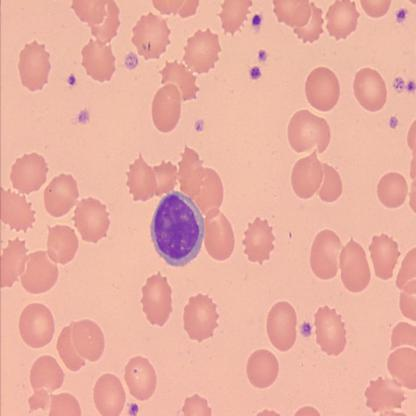Lymphocyte: (150, 191, 205, 268)
